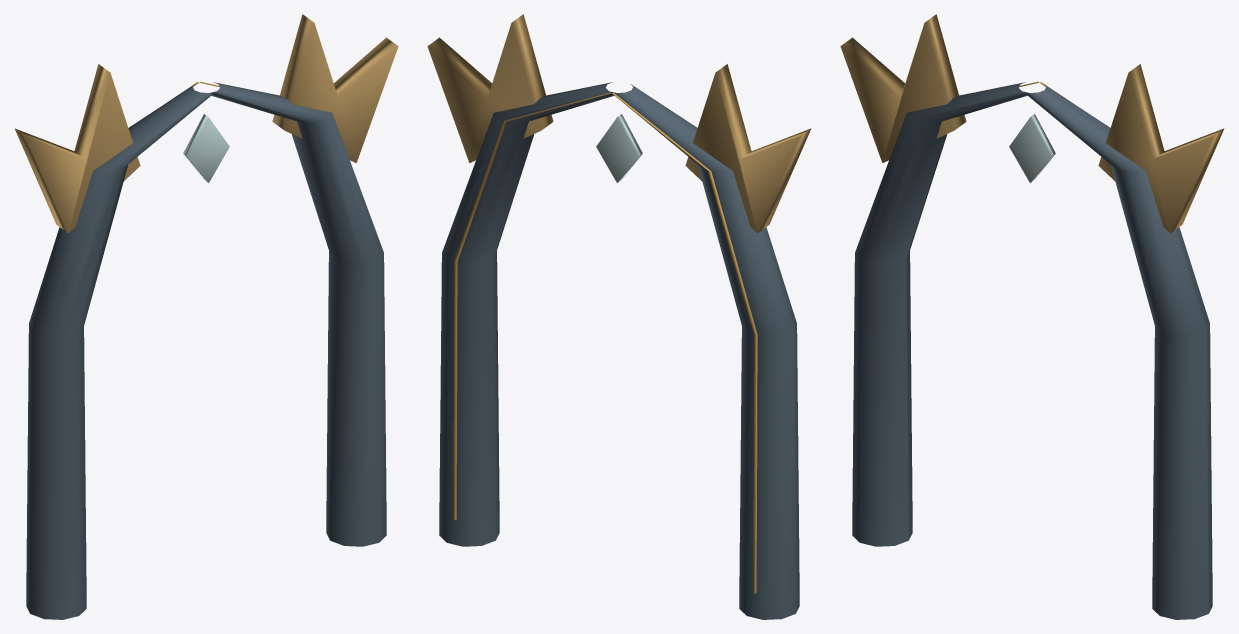
Rendered from prop_3_1.glb.
3 views of the same model, side by side, from view 1: azimuth 30°, elevation 25°; view 2: azimuth 150°, elevation 25°; view 3: azimuth 330°, elevation 25° (orthographic).
Parts seen in each view (by area): view 1: ArchPier (×2), Crown (×2), ArchSeal; view 2: ArchPier (×2), Crown (×2), ArchInlay (×2), ArchSeal; view 3: ArchPier (×2), Crown (×2), ArchSeal.
Part boxes in pixels (bbox=[...]): ArchPier (×2): bbox=[26, 82, 386, 619]; Crown (×2): bbox=[14, 14, 398, 233]; ArchSeal: bbox=[183, 114, 229, 182]; ArchPier (×2): bbox=[439, 82, 799, 619]; Crown (×2): bbox=[427, 14, 811, 233]; ArchInlay (×2): bbox=[453, 92, 757, 593]; ArchSeal: bbox=[596, 114, 642, 182]; ArchPier (×2): bbox=[852, 82, 1212, 619]; Crown (×2): bbox=[840, 14, 1224, 233]; ArchSeal: bbox=[1009, 114, 1055, 182].
Bounding box in the file's own units: 6.2 × 8.4 × 0.8522.
